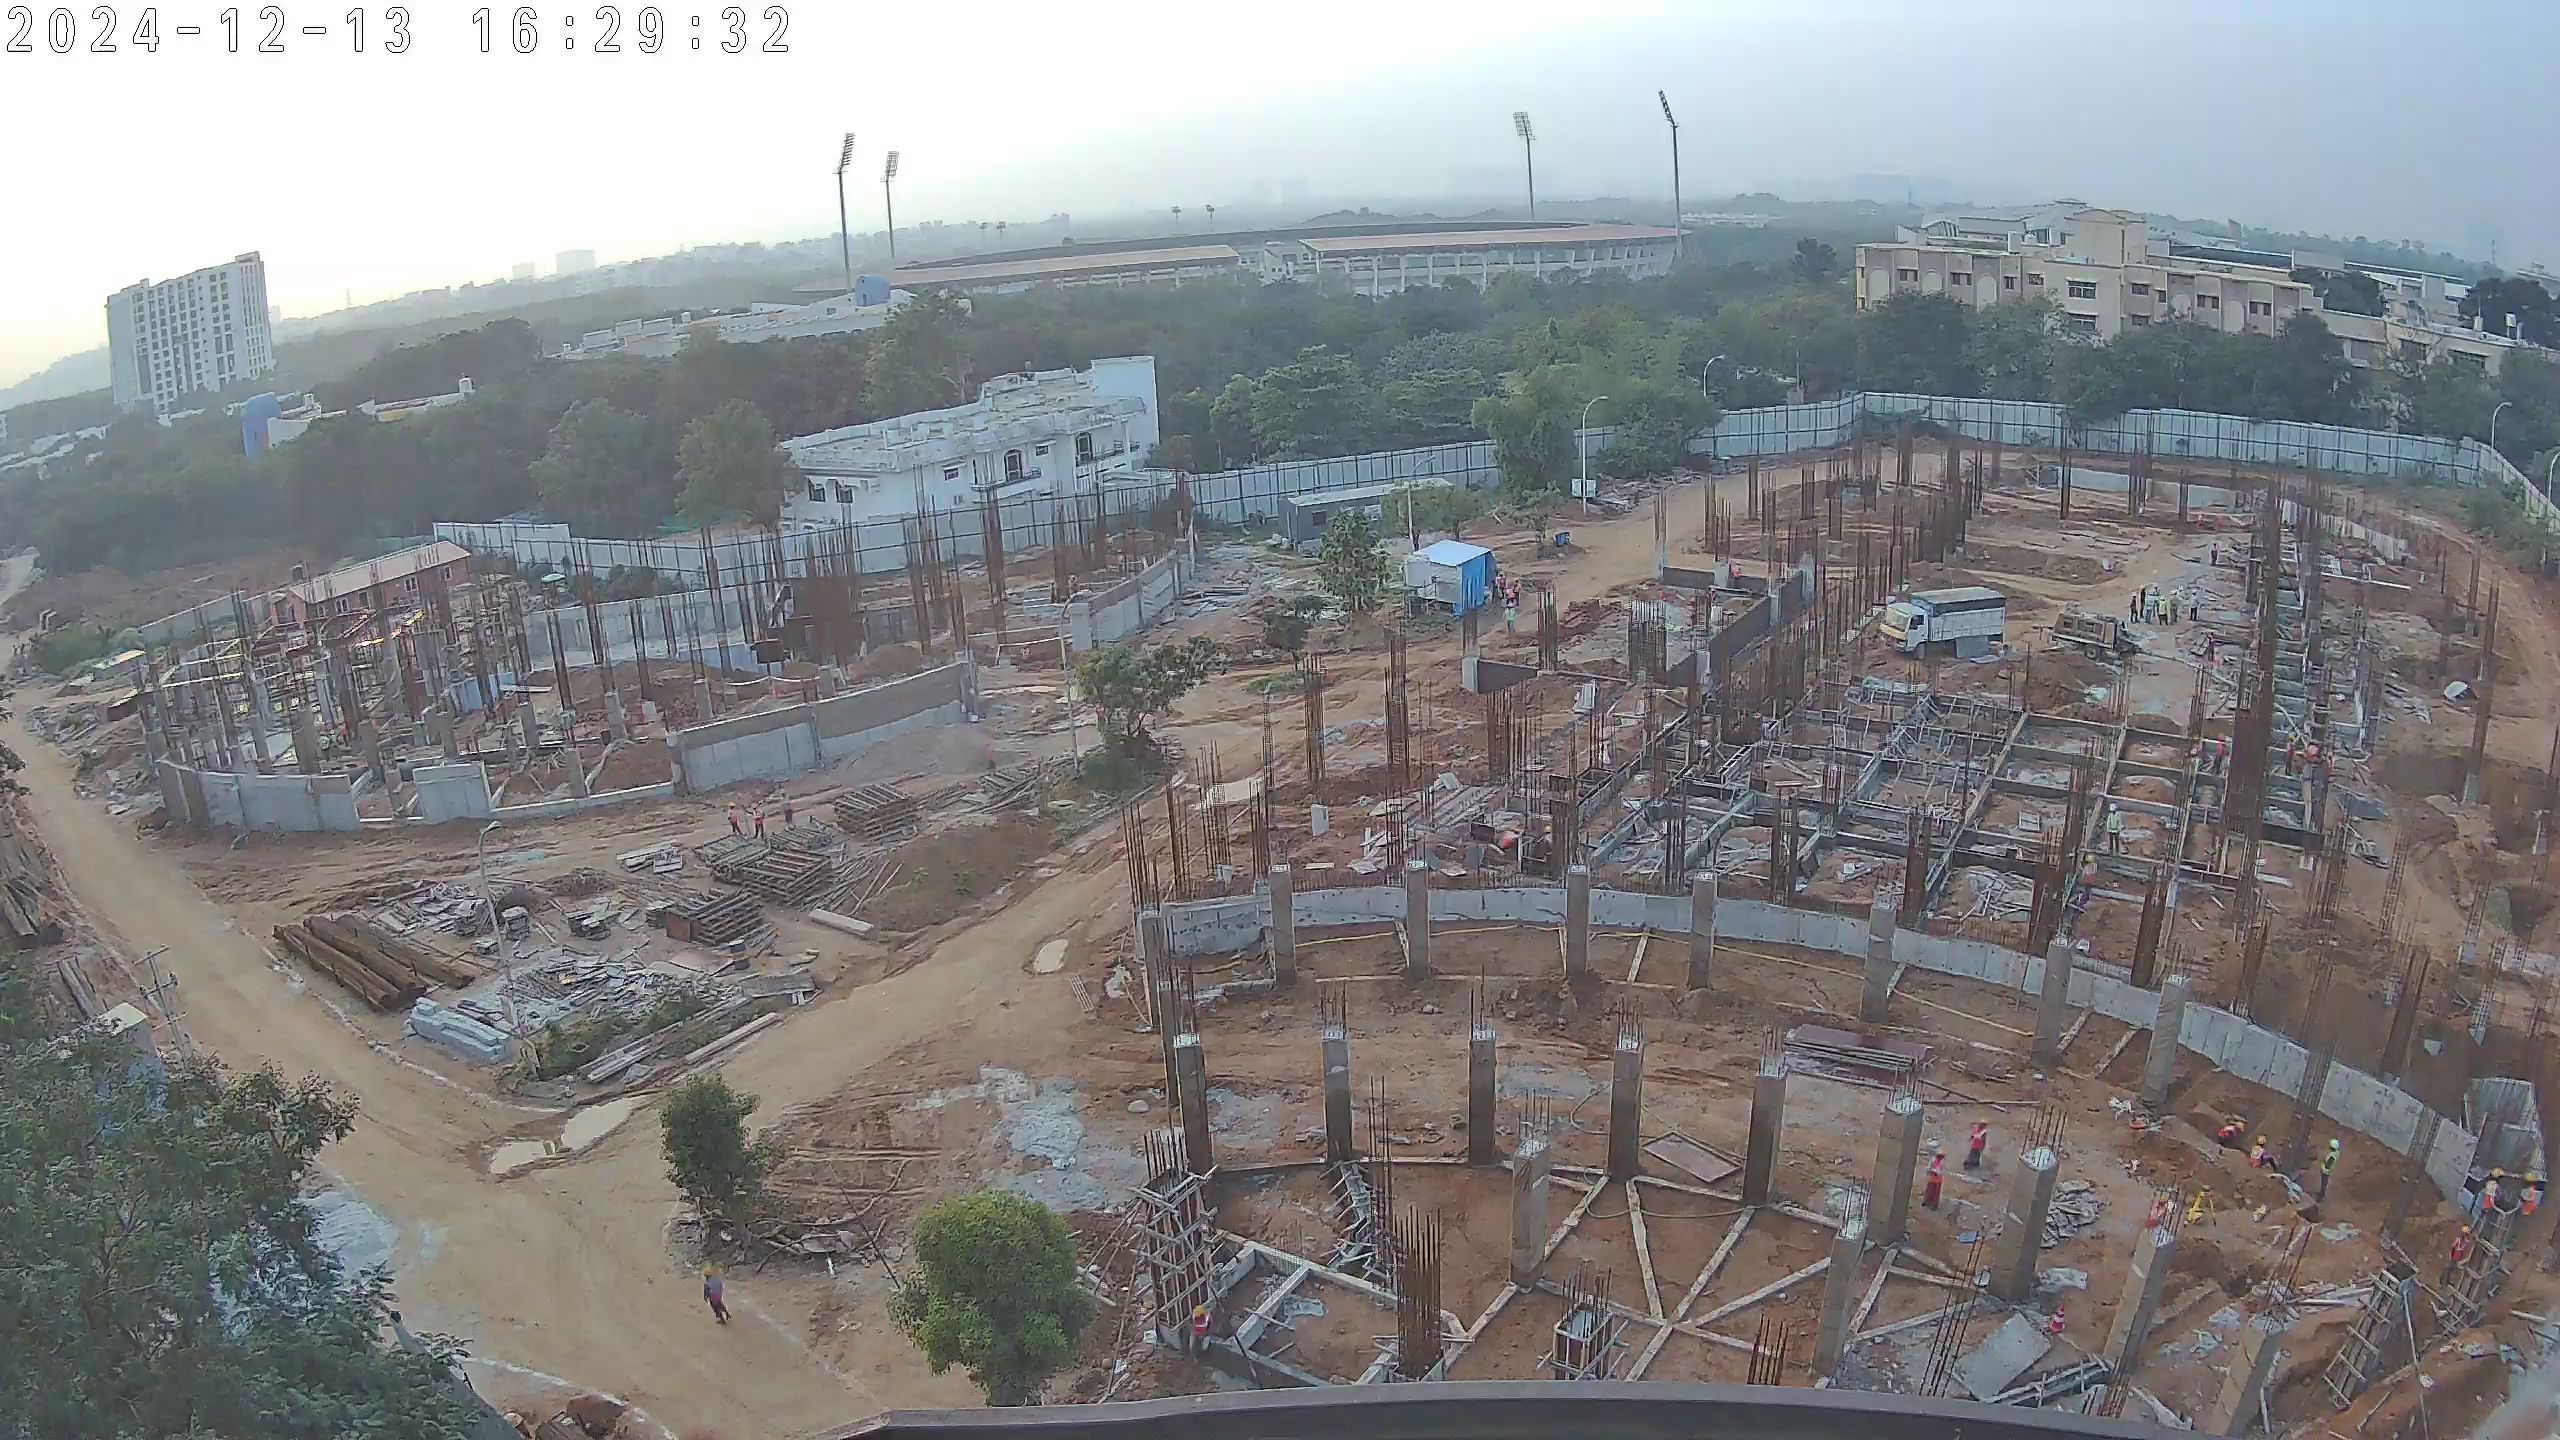truck: (1877, 585, 2010, 664)
worker: (2214, 1110, 2274, 1175), (697, 1266, 739, 1331), (2477, 1156, 2509, 1231), (2435, 1231, 2474, 1291), (2316, 1133, 2345, 1208), (1918, 1149, 1945, 1214), (1184, 1301, 1214, 1359), (2513, 1169, 2539, 1231), (2102, 795, 2125, 858), (1964, 1118, 1989, 1172), (745, 801, 770, 849), (2075, 853, 2099, 900), (2210, 727, 2230, 778), (724, 798, 744, 844), (2321, 749, 2342, 791), (2283, 730, 2299, 777), (1090, 695, 1109, 734), (984, 737, 999, 777), (1502, 602, 1518, 639), (2168, 588, 2181, 627), (1727, 558, 1746, 583), (2207, 539, 2221, 570), (2188, 589, 2201, 622), (1493, 570, 1506, 602), (1511, 577, 1524, 608), (2157, 596, 2170, 626), (1502, 583, 1519, 605), (2128, 592, 2139, 625), (2150, 586, 2160, 621), (2145, 591, 2155, 625), (2138, 584, 2147, 620)
